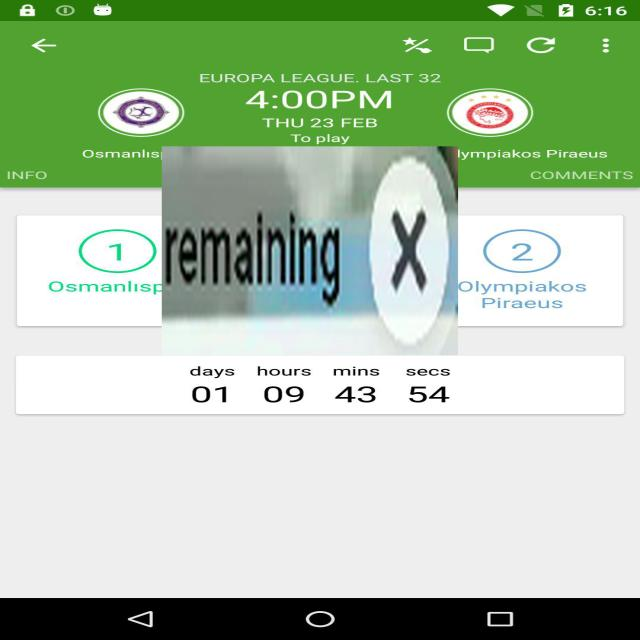misdirection: (162, 147, 458, 356)
